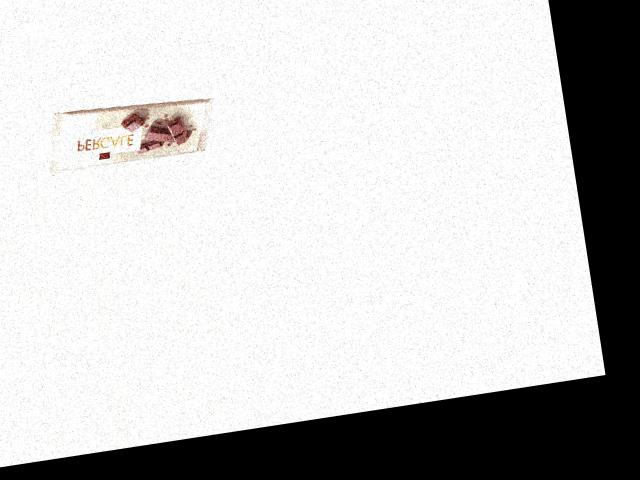chocolate: (39, 90, 224, 174)
